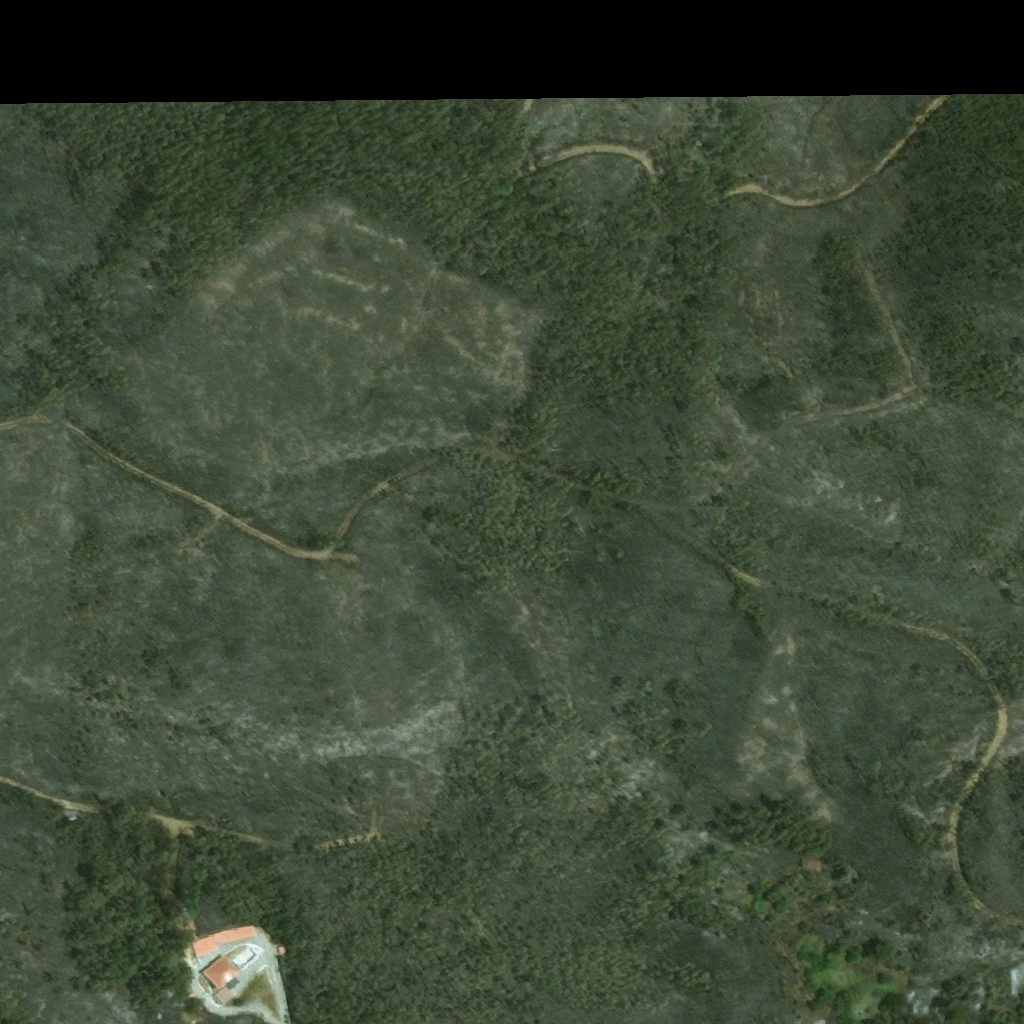0 no-damage: (202, 954, 241, 992), (279, 945, 288, 954)
3 destroyed: (181, 1003, 204, 1023)
